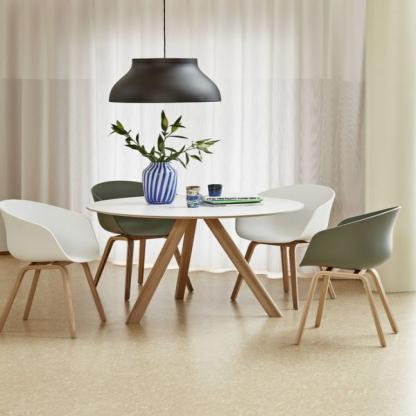chair: (2, 187, 104, 344), (299, 199, 404, 349), (224, 175, 332, 303), (93, 174, 200, 302)
